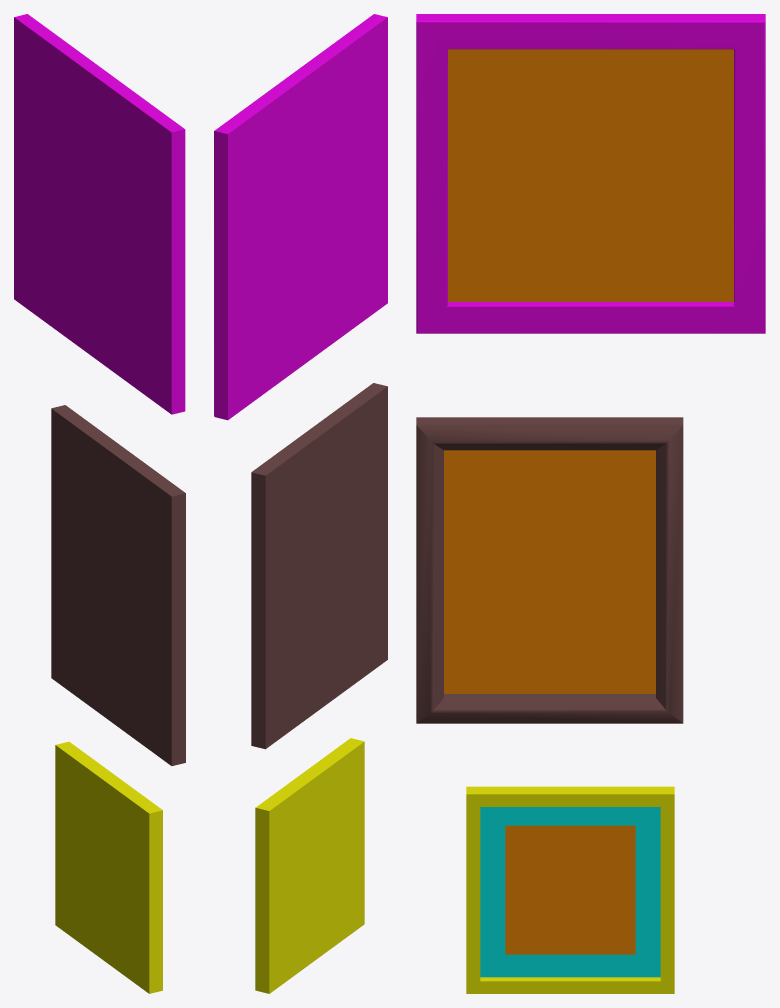
The picture shows the model from 3 angles, left to right: view 1: azimuth 30°, elevation 25°; view 2: azimuth 150°, elevation 25°; view 3: azimuth 270°, elevation 25°; orthographic projection. The views are drawn at different scales.
Parts seen in each view (by area): view 1: pCube163; view 2: pCube163; view 3: pCube163.
Boxes of the visible parts, x1,y1,x2,y2 form: pCube163: (14,14,185,993); pCube163: (214,14,387,993); pCube163: (416,14,765,993).
Size of the model in its own units: 5.31 by 228 by 74.04.
